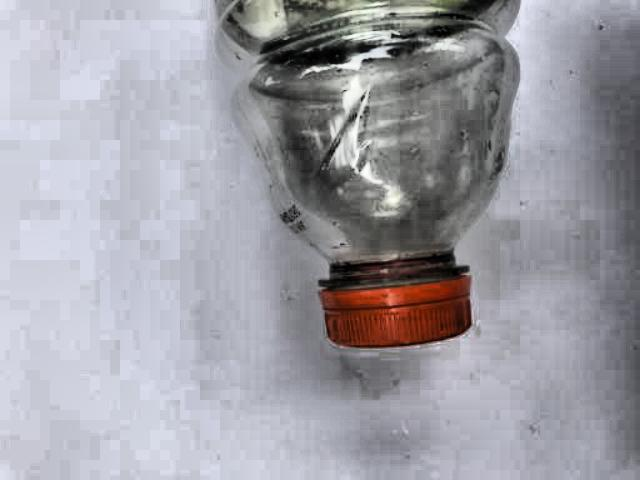Bottles: (189, 0, 549, 359)
